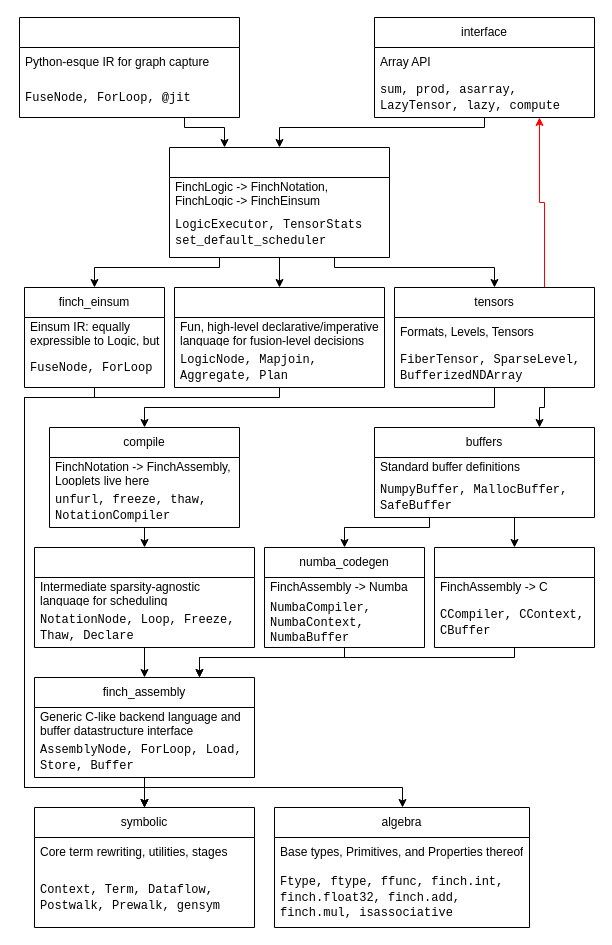
The diagram is 612 pixels wide and 945 high, and some of its shapes have lost their labels. The shapes that lost their labels are listed below. From the top down, each one's box as (x1, y1, x2, y2) in pixels, then its label:
(18, 16, 240, 118): finch_fuse
(168, 146, 390, 258): autoschedule
(174, 286, 384, 388): finch_logic
(34, 546, 254, 648): finch_notation
(434, 546, 594, 648): c_codegen
